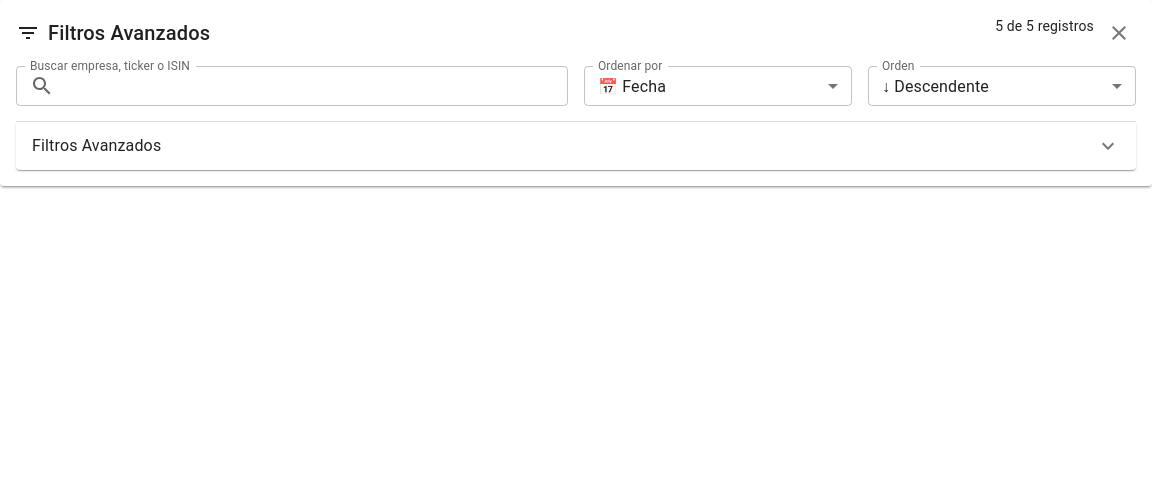
Test: AdvancedFilters › clears every filter at once
In the field labelled "Buscar empresa, ticker o ISIN": [315, 86] box [62,66,568,106], type "pep"
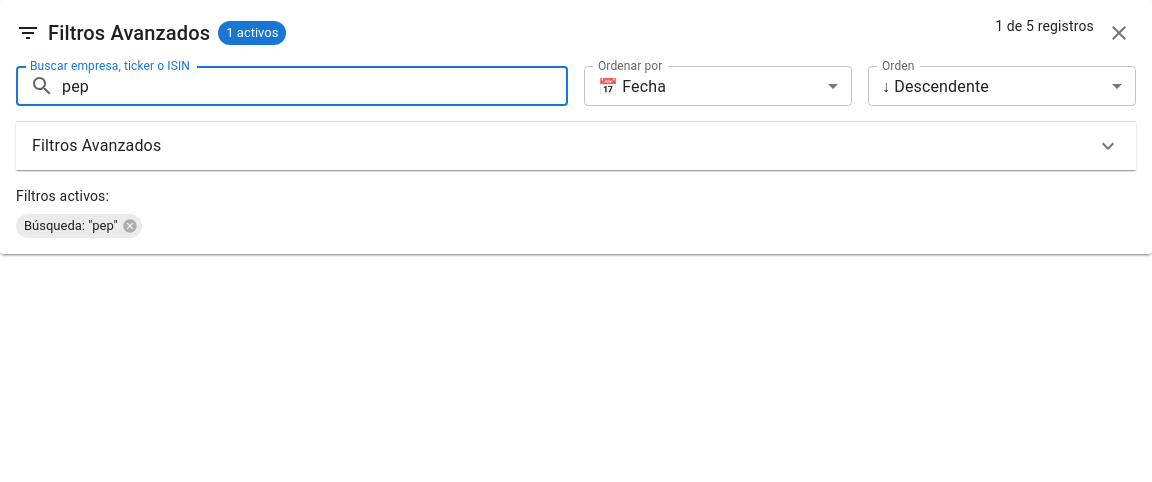
Click the button "Filtros Avanzados": [97, 146] box [16,122,1136,170]
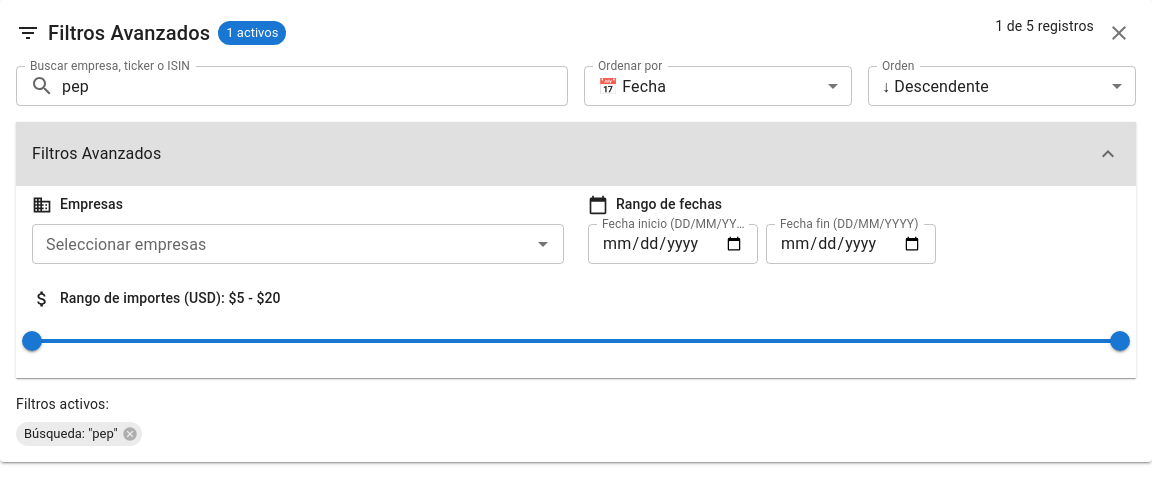
In the date field labelled "Fecha inicio (DD/MM/YYYY)": [673, 244] box [588,224,758,264], type "2024-06-01"
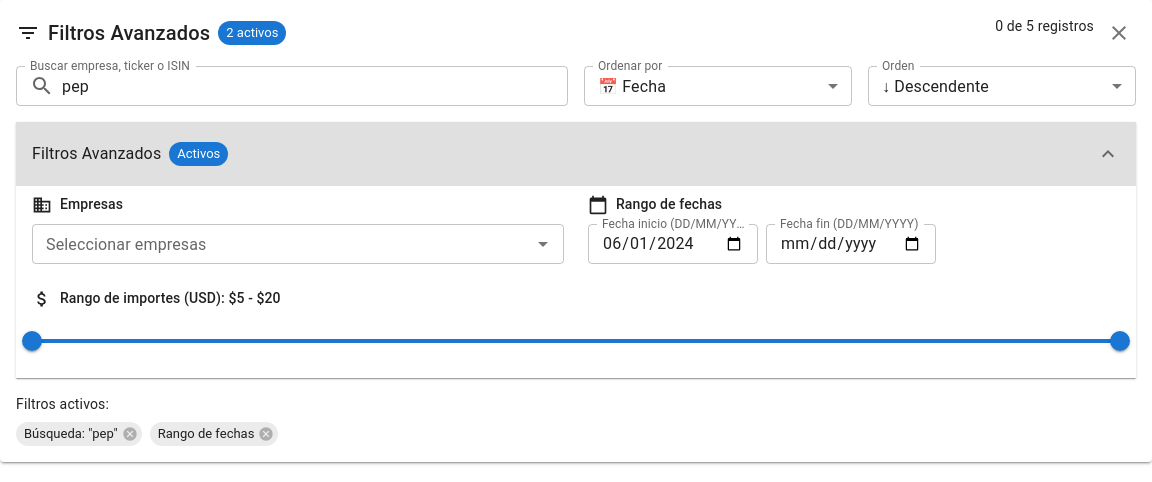
Now the text "2 activos" is shown, box [226,25,278,40]
Click the button named "Limpiar todos los filtros": [1119, 33] box [1102,16,1136,50]
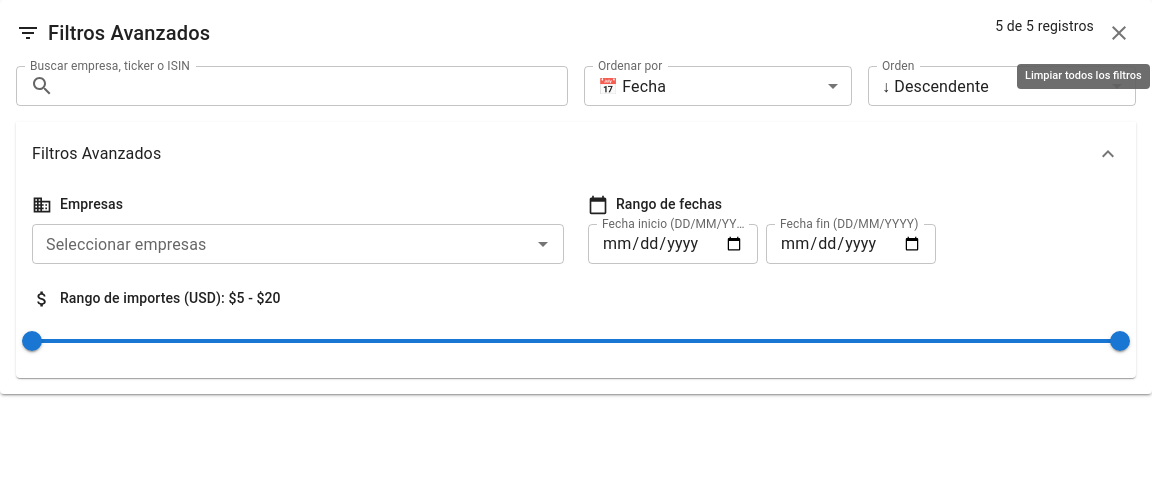
Now the text "activos" is gone
Now the text "5 de 5 registros" is shown, box [995,18,1094,34]
